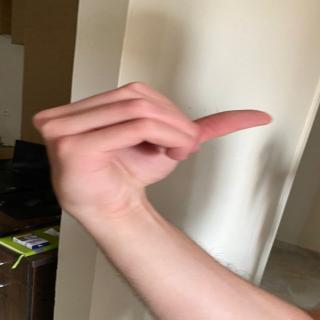WAW: (28, 82, 281, 197)
